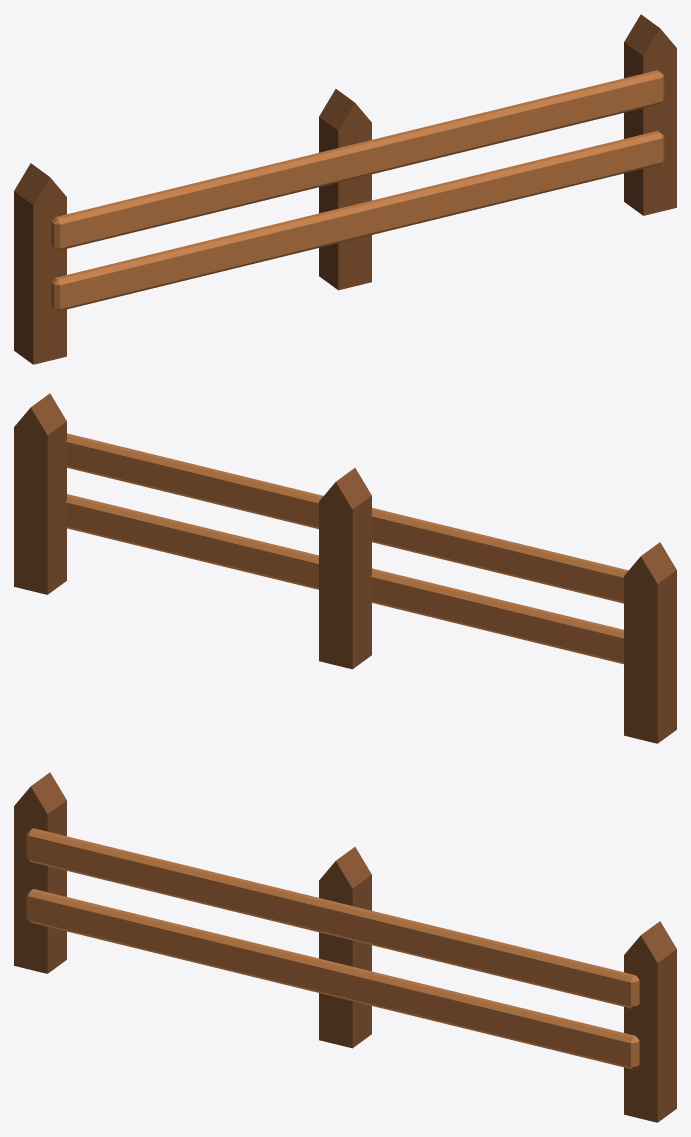
Rendered from fence_segment.glb.
3 views of the same model, one above another, from view 1: azimuth 30°, elevation 25°; view 2: azimuth 150°, elevation 25°; view 3: azimuth 330°, elevation 25° (orthographic).
Visible parts, largest first — view 1: fence_segment; view 2: fence_segment; view 3: fence_segment.
Boxes of the visible parts, box(x1,y1,x2,y2) form: fence_segment: box(14, 14, 676, 364); fence_segment: box(14, 393, 676, 743); fence_segment: box(14, 772, 676, 1122).
Bounding box in the file's own units: 4.22 × 1.15 × 0.29.
